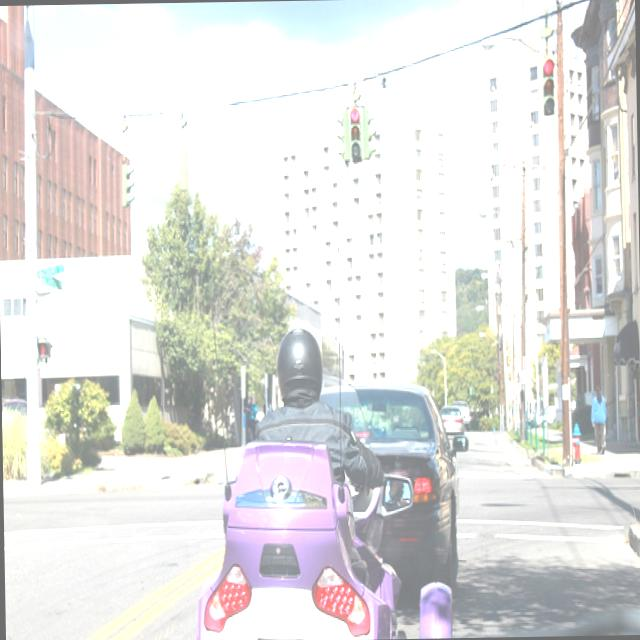Vehicle: (192, 438, 453, 636), (191, 436, 416, 638), (354, 382, 464, 596), (439, 404, 466, 438), (452, 400, 471, 431)
